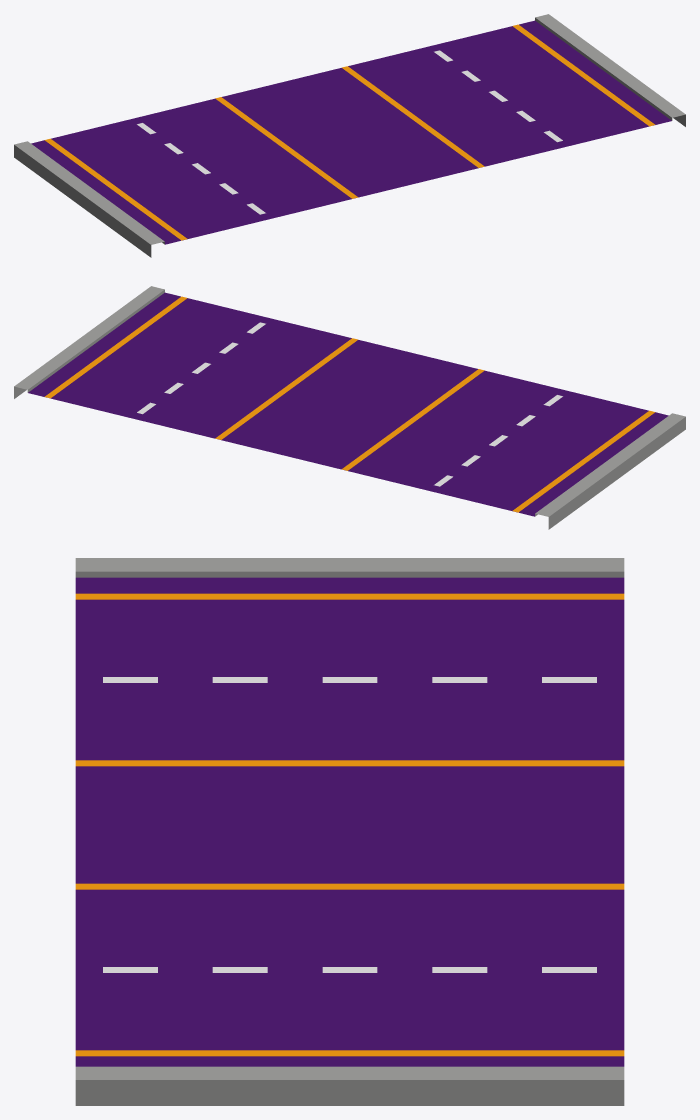
The model's file is Road_C_2L_1_1.fbx.
3 renders of one model, top to bottom at view 1: azimuth 30°, elevation 25°; view 2: azimuth 150°, elevation 25°; view 3: azimuth 270°, elevation 25°, orthographic. The views are drawn at different scales.
Parts seen in each view (by area): view 1: Road_C_2L_1_1; view 2: Road_C_2L_1_1; view 3: Road_C_2L_1_1.
Boxes of the visible parts, x1,y1,x2,y2 form: Road_C_2L_1_1: (14,14,685,257); Road_C_2L_1_1: (14,286,685,529); Road_C_2L_1_1: (75,558,624,1105).
Bounding box in the file's own units: 1800 × 41.48 × 800.
